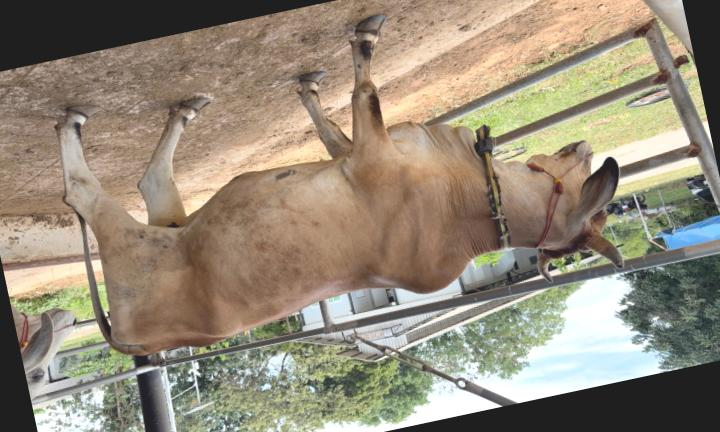Brahman: (57, 16, 624, 355)
